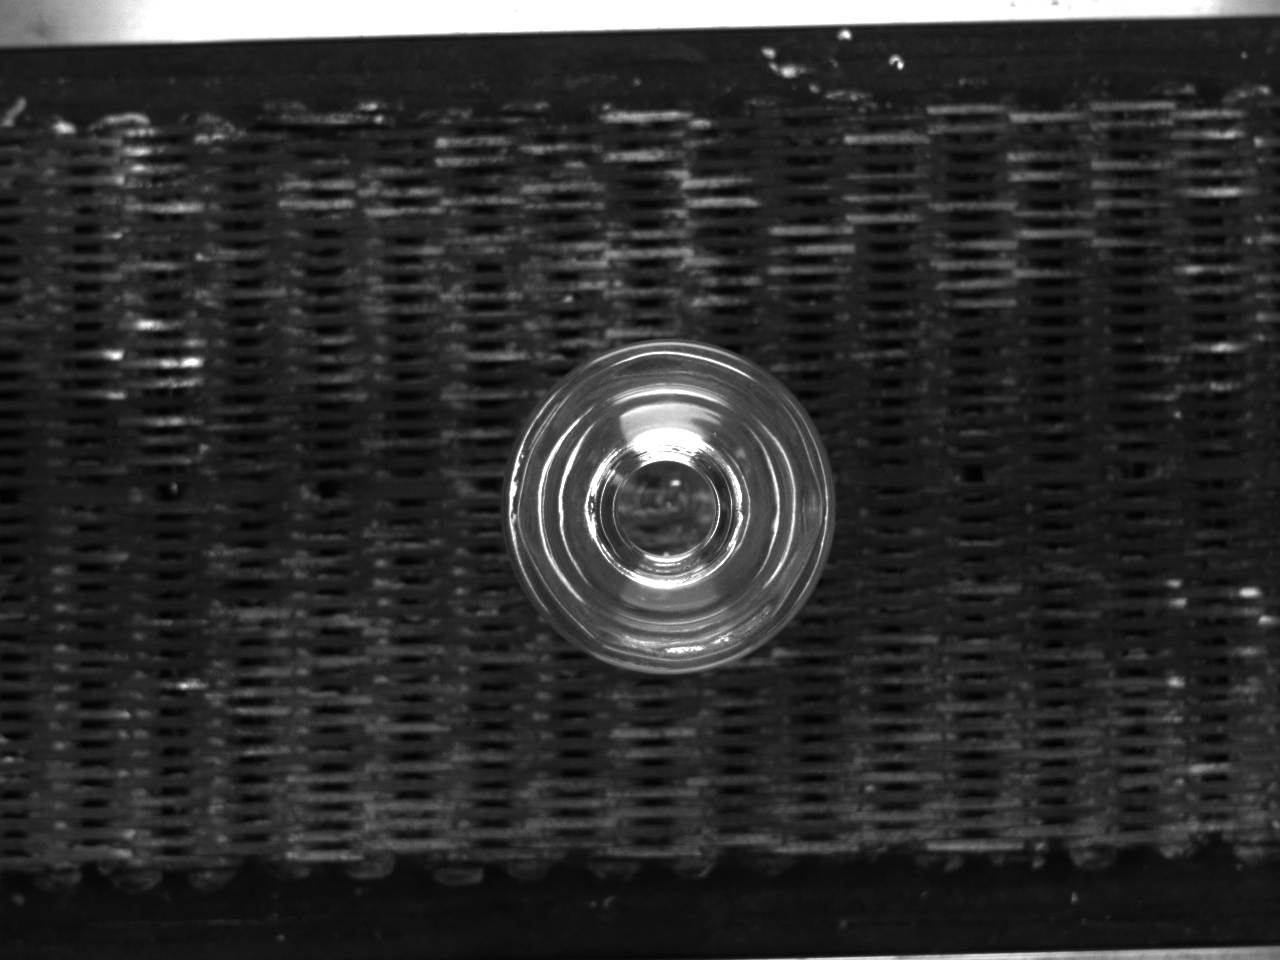bottleneck: (589, 430, 751, 583)
